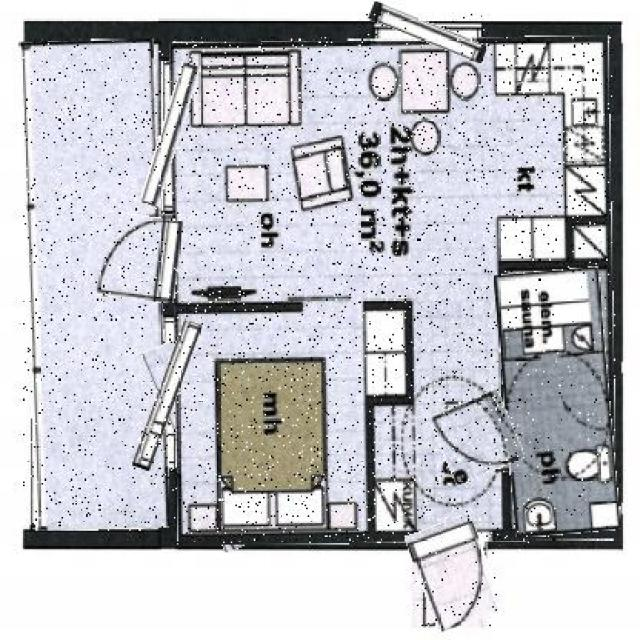door: (412, 518, 497, 628), (88, 214, 182, 300), (434, 396, 520, 478)
window: (146, 318, 189, 471), (151, 61, 191, 208), (368, 12, 488, 52)
zone: (172, 37, 614, 543), (23, 40, 166, 531), (160, 297, 377, 540), (498, 270, 616, 536)
